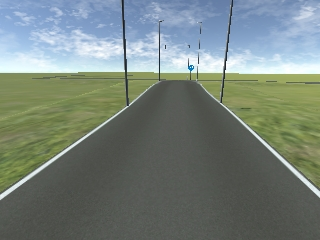right: (189, 65, 194, 70)
